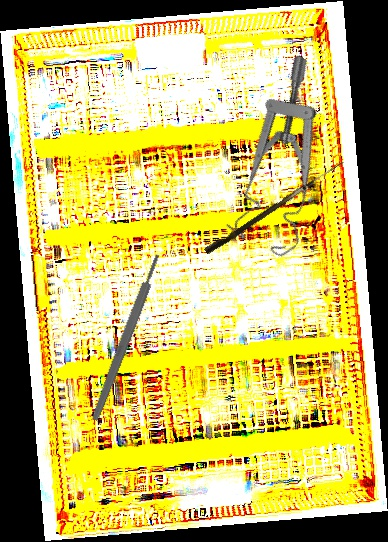Hook Surgical: (203, 154, 345, 258)
Scalpel Handle: (89, 252, 164, 423)
Speculum: (194, 54, 386, 266)
